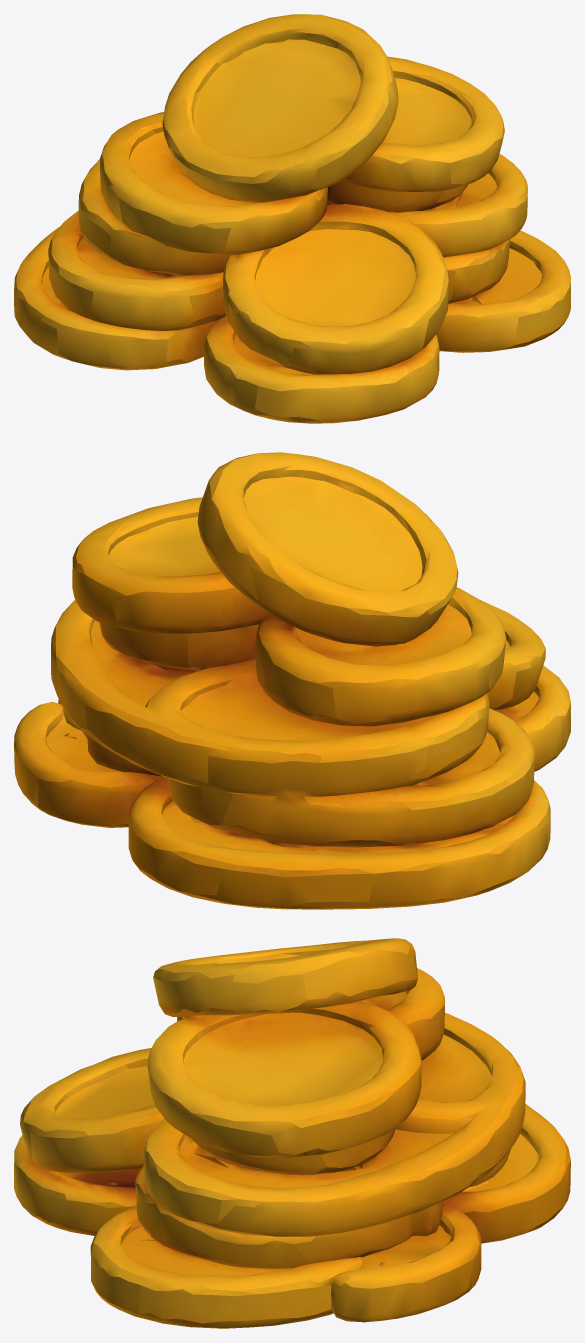
File: i-coins.glb
3 renders of one model, top to bottom at view 1: azimuth 30°, elevation 25°; view 2: azimuth 150°, elevation 25°; view 3: azimuth 270°, elevation 25°, orthographic. The views are drawn at different scales.
Visible parts, largest first — view 1: geometry_0; view 2: geometry_0; view 3: geometry_0.
Part boxes in pixels (x1,y1,x2,y2): geometry_0: (14,14,570,423); geometry_0: (14,452,570,909); geometry_0: (14,938,570,1328).
Size of the model in its own units: 0.04 by 0.0228 by 0.0394.
1 material, 1 textured.
